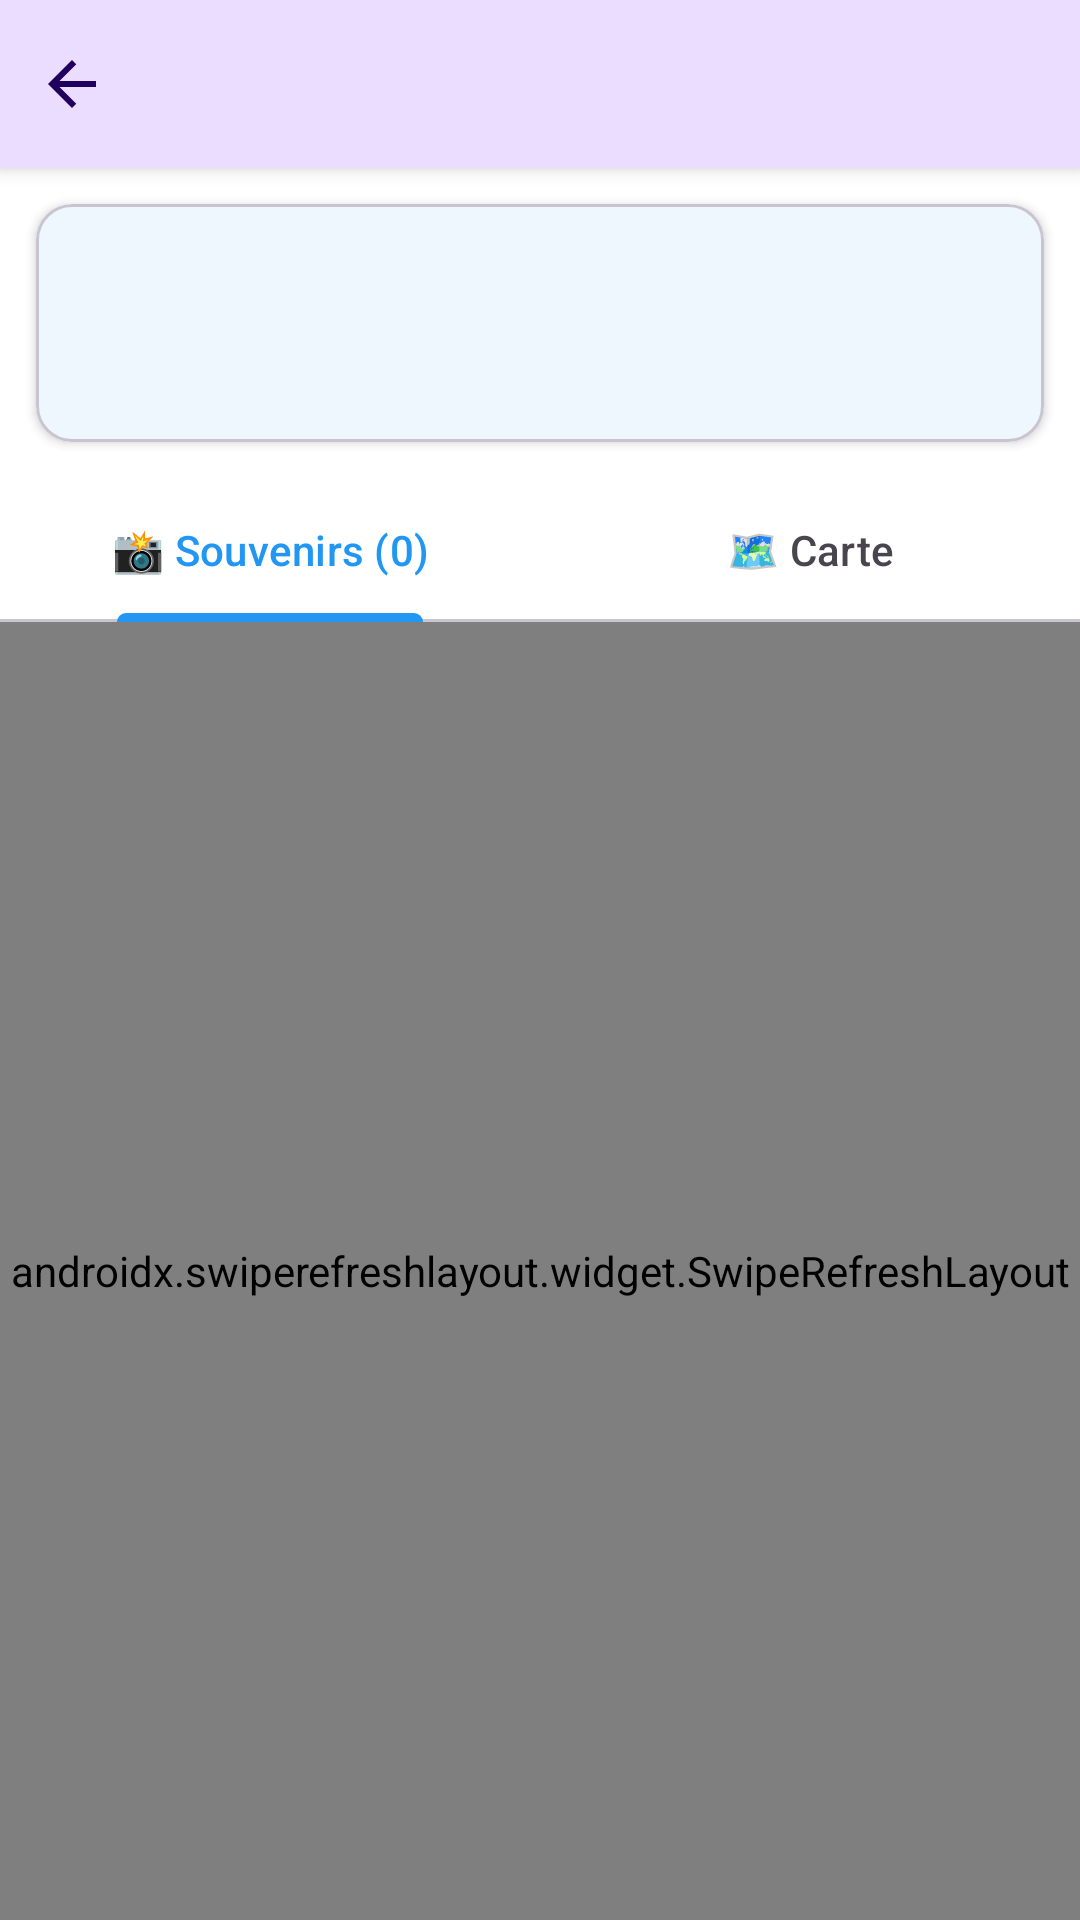

Where icons sit on this 1080px x 1920px app screen, as (x1,y1,x2,y2):
Retour: (48,60,96,108)
